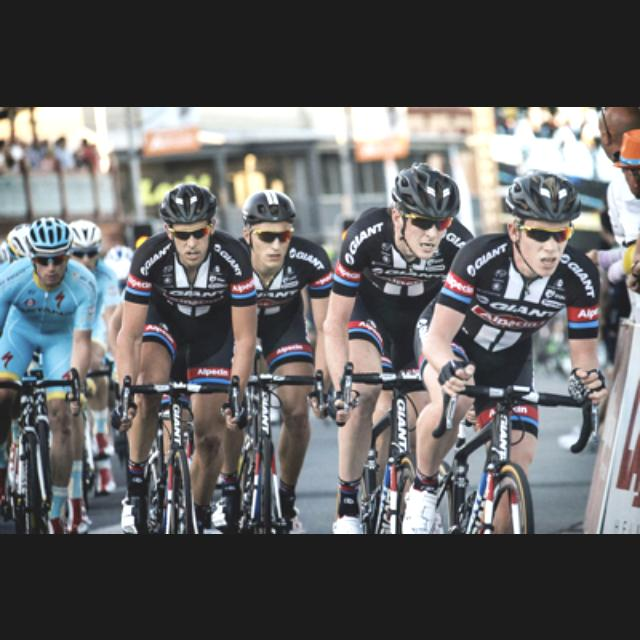With Helmet: (494, 157, 588, 279), (383, 147, 469, 270), (155, 172, 225, 270), (235, 182, 302, 274), (18, 210, 78, 286)
